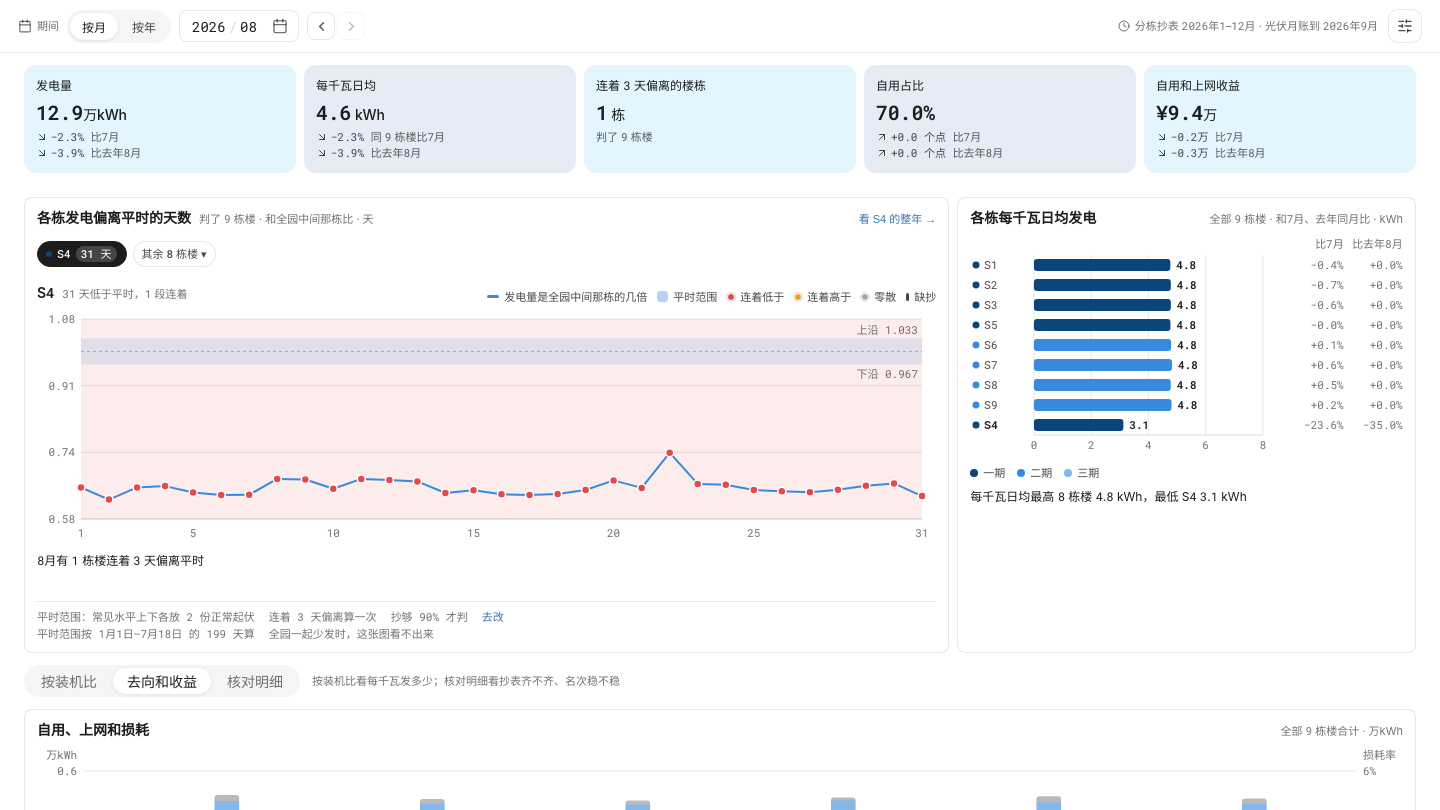
Test: 光伏分栋分析 · 四个状态各自渲染什么 › ❗核对明细 · 按月:常年水平 s6 + 抄表齐不齐 s6 + 核对表 s12;每月和常年的差只在按年出
This screenshot has width=1440, height=810.
Step 1. Click the tab "核对明细" → (255, 681), box [213,668,297,694]
(page scrolled)
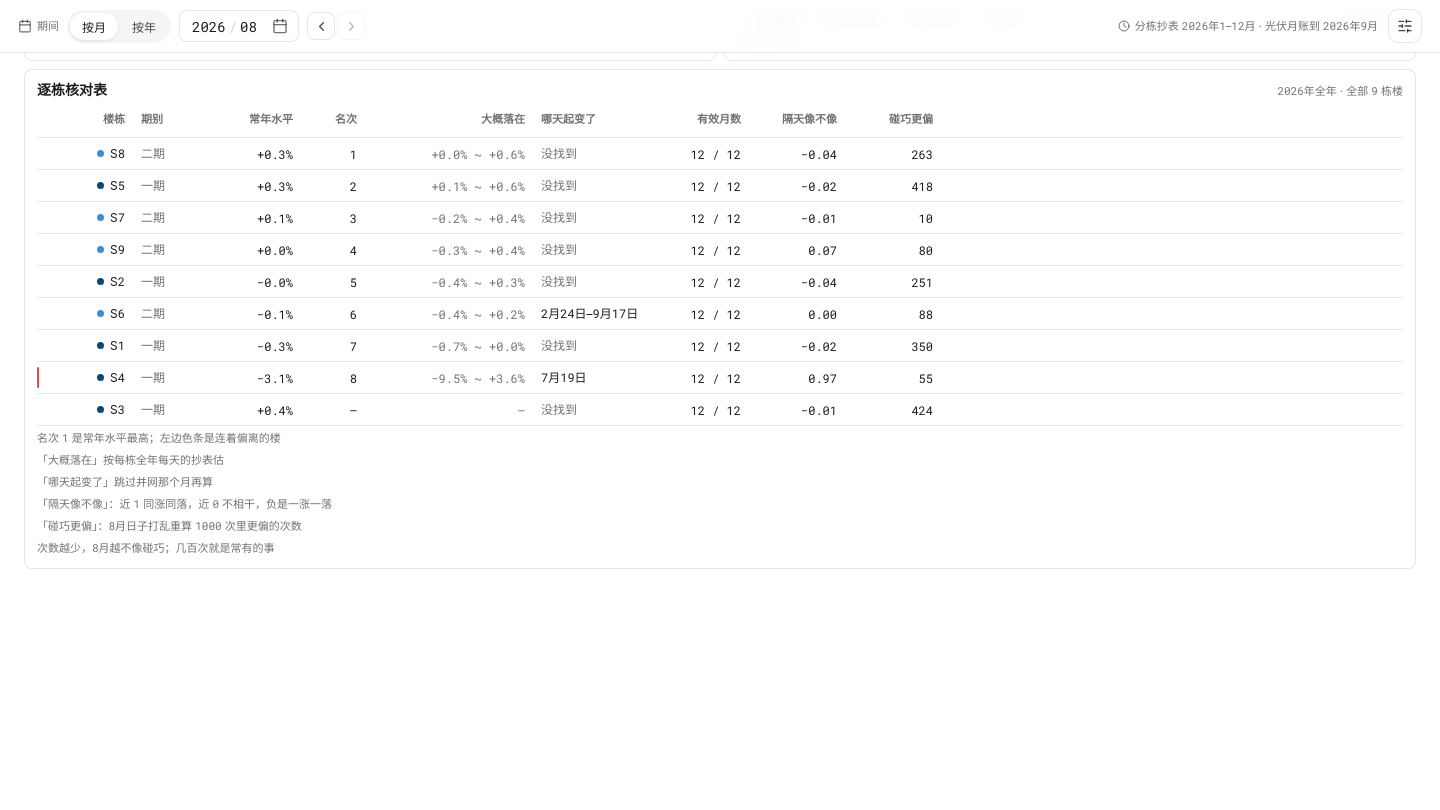
Expected: the row "S8 二期 +0.3% 1 +0.0% ~ +0.6% 没找到 12 / 12 −0.04 263" is shown, [37,138,1403,170]
Expected: the cell "−0.04" in the row of "+0.0% ~ +0.6%" is shown, [801,146,837,162]
Expected: the cell "−0.02" in the row of "+0.1% ~ +0.6%" is shown, [801,178,837,194]
